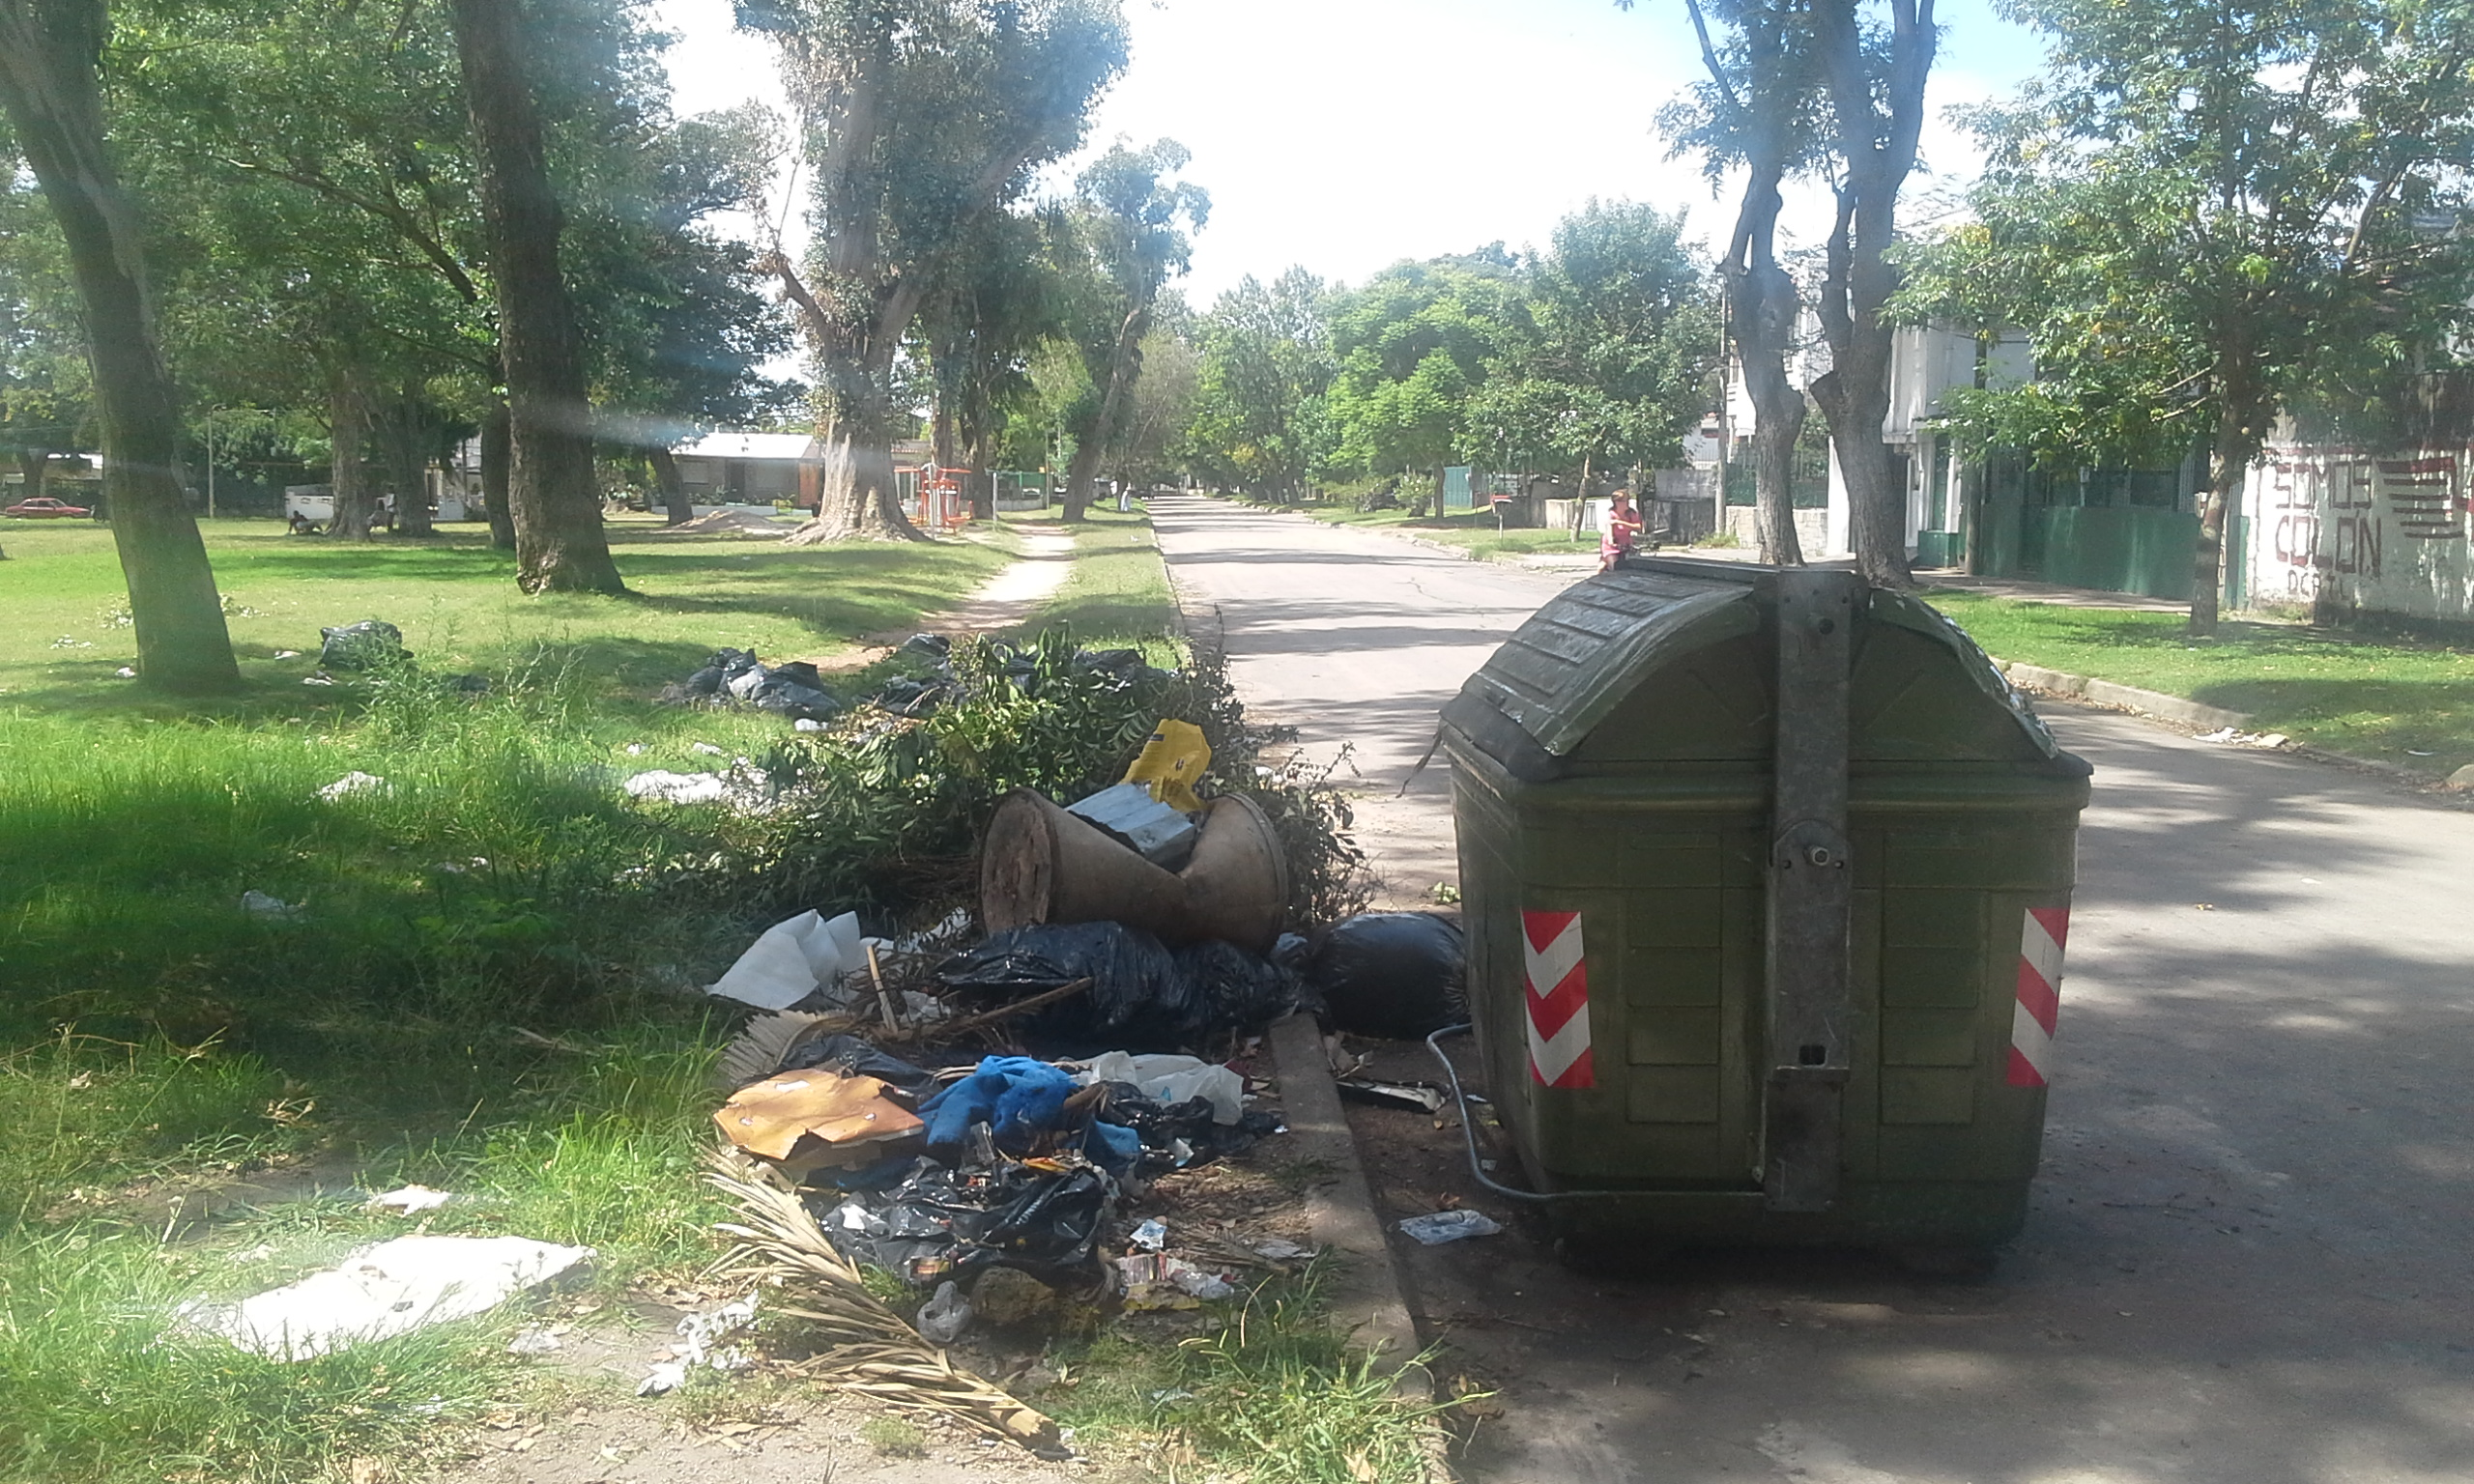container: (1421, 541, 2105, 1298)
